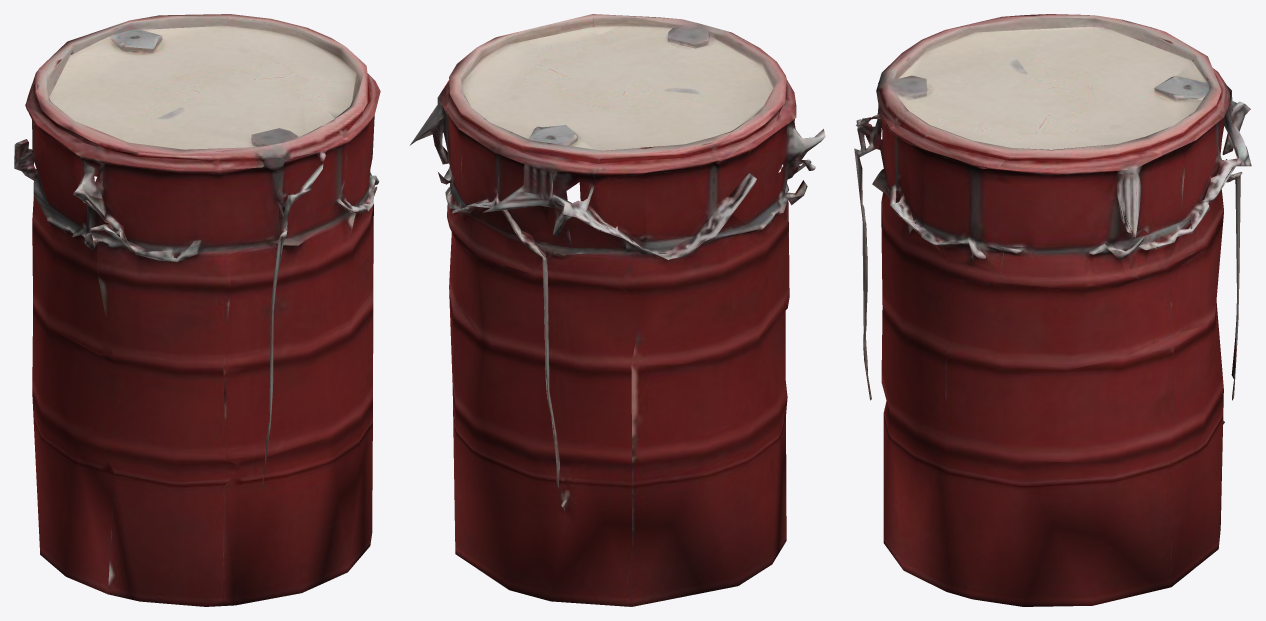
Rendered from toy_drum.glb.
3 renders of one model, left to right at view 1: azimuth 30°, elevation 25°; view 2: azimuth 150°, elevation 25°; view 3: azimuth 270°, elevation 25°, orthographic.
Parts seen in each view (by area): view 1: toy_drum; view 2: toy_drum; view 3: toy_drum.
Part boxes in pixels (x1,y1,x2,y2): toy_drum: (14,14,380,606); toy_drum: (410,14,825,606); toy_drum: (854,14,1251,606).
Bounding box in the file's own units: 0.7719 × 0.9973 × 0.7891.
1 material, 1 textured.
